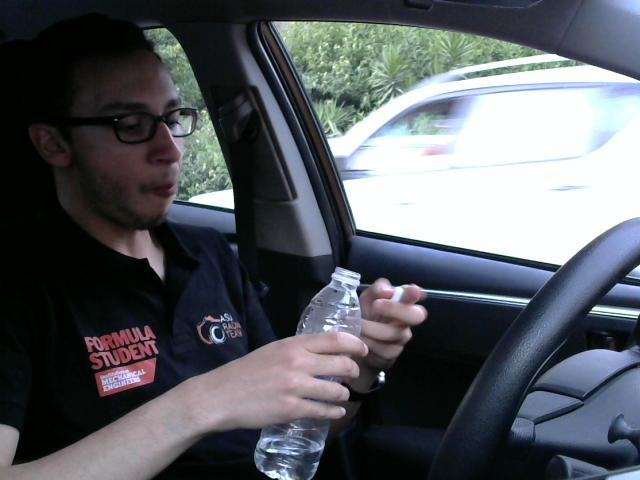Drinking: (260, 262, 374, 480)
